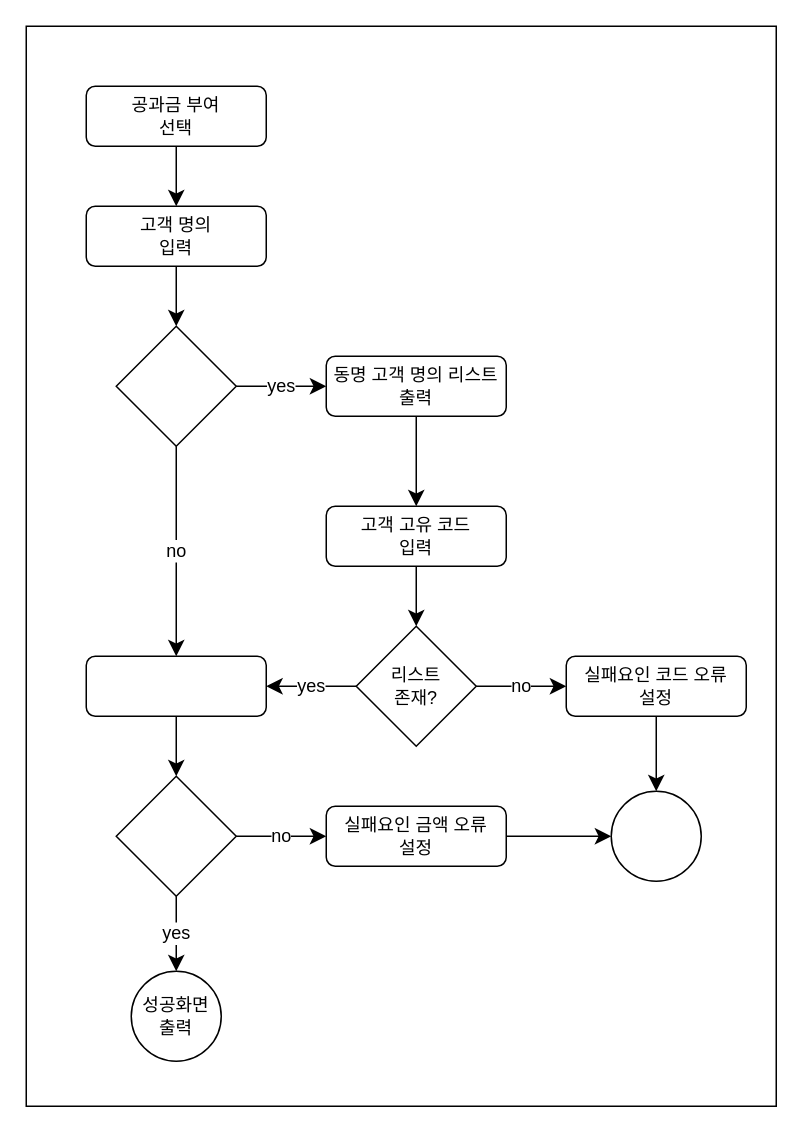
The diagram is 803 pixels wide and 1133 high, and some of its shapes have lost their labels. Each missing label, with the centre of its shape:
공과금 금액 입력: pixel 175 685
동명이인 존재?: pixel 175 385
실패요인 출력: pixel 655 835
정상적인 값?: pixel 175 835
